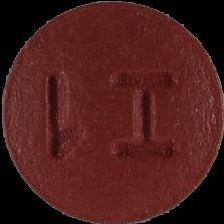63187-637: (0, 0, 224, 224)
